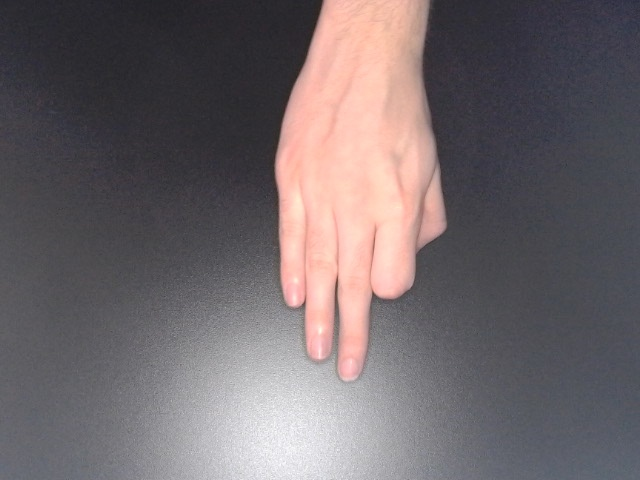m: (268, 1, 455, 387)
